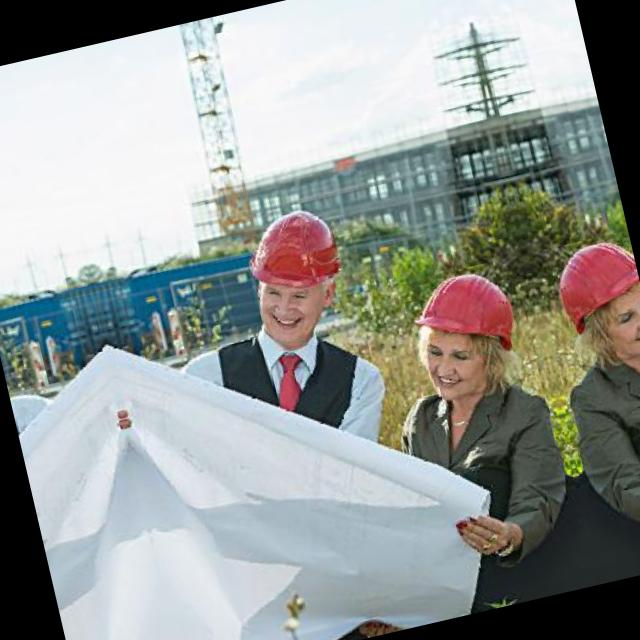helmet: (214, 184, 370, 363), (383, 251, 542, 424), (533, 224, 640, 390)
